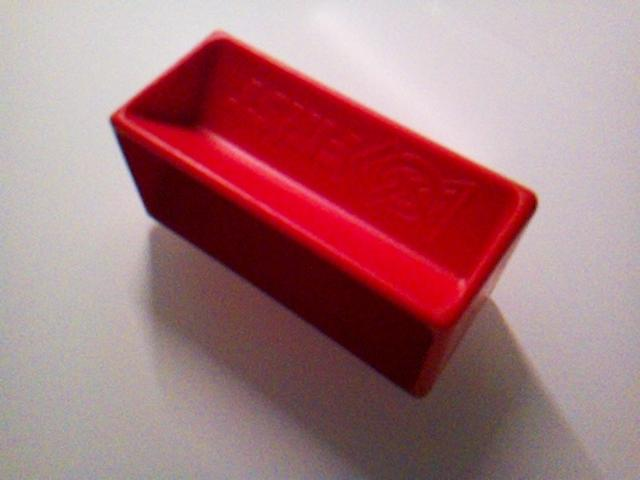red: (109, 28, 540, 399)
